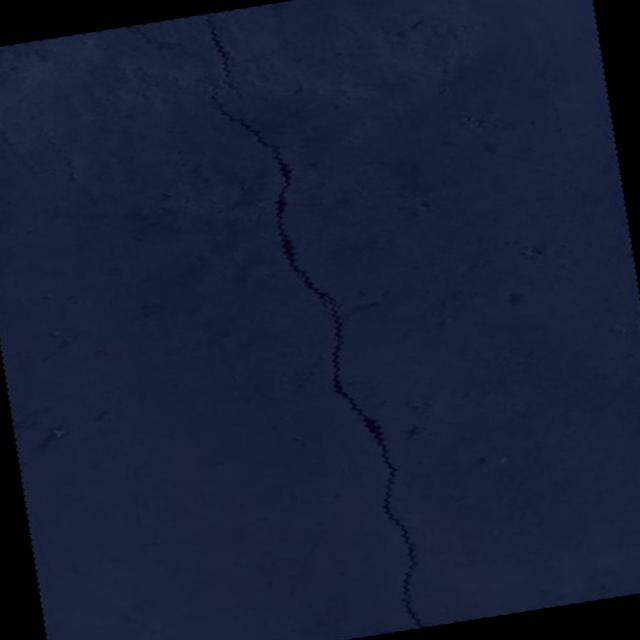crack: (210, 67, 429, 640), (206, 10, 244, 105)
